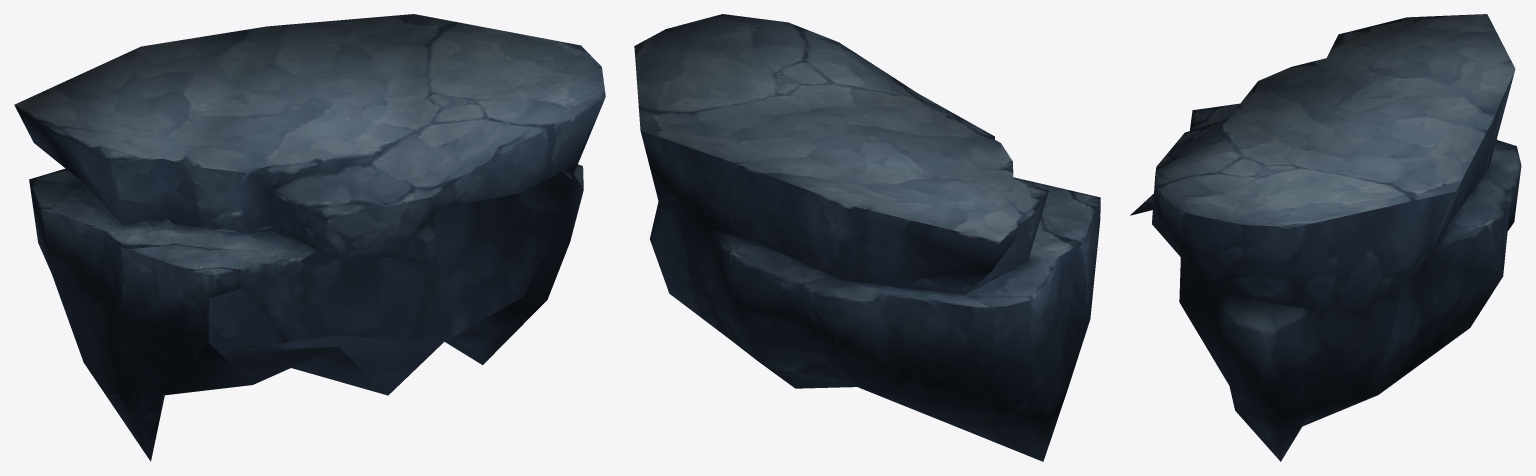
Rendered from Area_01_22.fbx.
3 views of the same model, side by side, from view 1: azimuth 30°, elevation 25°; view 2: azimuth 150°, elevation 25°; view 3: azimuth 270°, elevation 25° (orthographic). The views are drawn at different scales.
Parts seen in each view (by area): view 1: Area_01_22; view 2: Area_01_22; view 3: Area_01_22.
Boxes of the visible parts, x1,y1,x2,y2 form: Area_01_22: (14,14,605,461); Area_01_22: (634,14,1100,461); Area_01_22: (1130,14,1521,461).
Size of the model in its own units: 1863 by 1190 by 1342.
